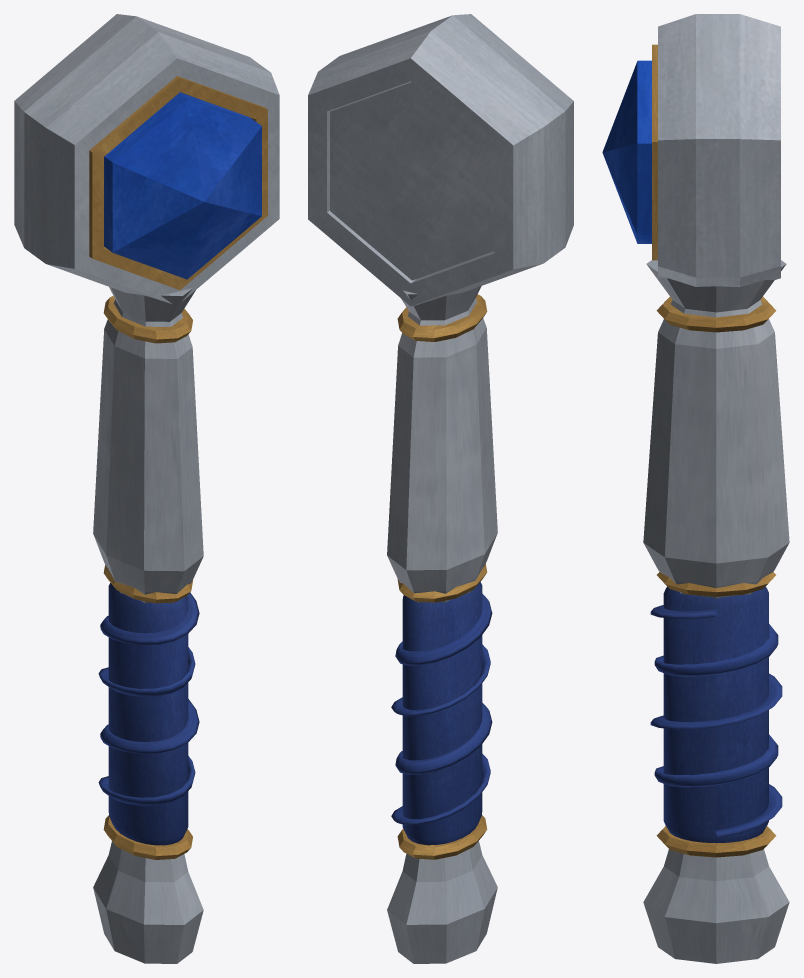
File: silver_rod.obj
3 views of the same model, side by side, from view 1: azimuth 30°, elevation 25°; view 2: azimuth 150°, elevation 25°; view 3: azimuth 270°, elevation 25° (orthographic).
Parts seen in each view (by area): view 1: A_FlutedFacetedSilverBody.001_silver_rod_silver, D_ClosedHexagonalSilverHead.001_silver_rod_silver, F_ActualSapphireInset.001_silver_rod_sapphire, B_IndigoGrip.001_silver_rod_indigo, E_HexagonalBrassInsetSeat.001_silver_rod_brass, B_IndigoGrip_ActualRaisedWrap.001_silver_rod_indigo, C_BrassJoin_2.001_silver_rod_brass, C_BrassJoin_0.001_silver_rod_brass, C_BrassJoin_1.001_silver_rod_brass; view 2: A_FlutedFacetedSilverBody.001_silver_rod_silver, D_ClosedHexagonalSilverHead.001_silver_rod_silver, G_ClosedRearHeadPlate.001_silver_rod_silver, B_IndigoGrip.001_silver_rod_indigo, B_IndigoGrip_ActualRaisedWrap.001_silver_rod_indigo, C_BrassJoin_2.001_silver_rod_brass, C_BrassJoin_0.001_silver_rod_brass, C_BrassJoin_1.001_silver_rod_brass; view 3: A_FlutedFacetedSilverBody.001_silver_rod_silver, D_ClosedHexagonalSilverHead.001_silver_rod_silver, B_IndigoGrip.001_silver_rod_indigo, B_IndigoGrip_ActualRaisedWrap.001_silver_rod_indigo, F_ActualSapphireInset.001_silver_rod_sapphire, C_BrassJoin_2.001_silver_rod_brass, C_BrassJoin_0.001_silver_rod_brass, E_HexagonalBrassInsetSeat.001_silver_rod_brass, C_BrassJoin_1.001_silver_rod_brass.
Part boxes in pixels (bbox=[...]): A_FlutedFacetedSilverBody.001_silver_rod_silver: bbox=[93, 287, 203, 963]; D_ClosedHexagonalSilverHead.001_silver_rod_silver: bbox=[14, 14, 279, 303]; F_ActualSapphireInset.001_silver_rod_sapphire: bbox=[104, 92, 261, 279]; B_IndigoGrip.001_silver_rod_indigo: bbox=[108, 583, 188, 845]; E_HexagonalBrassInsetSeat.001_silver_rod_brass: bbox=[89, 76, 267, 289]; B_IndigoGrip_ActualRaisedWrap.001_silver_rod_indigo: bbox=[98, 592, 199, 805]; C_BrassJoin_2.001_silver_rod_brass: bbox=[103, 295, 192, 343]; C_BrassJoin_0.001_silver_rod_brass: bbox=[103, 815, 192, 859]; C_BrassJoin_1.001_silver_rod_brass: bbox=[103, 565, 192, 603]; A_FlutedFacetedSilverBody.001_silver_rod_silver: bbox=[387, 286, 497, 963]; D_ClosedHexagonalSilverHead.001_silver_rod_silver: bbox=[308, 14, 573, 306]; G_ClosedRearHeadPlate.001_silver_rod_silver: bbox=[330, 81, 494, 280]; B_IndigoGrip.001_silver_rod_indigo: bbox=[402, 582, 482, 845]; B_IndigoGrip_ActualRaisedWrap.001_silver_rod_indigo: bbox=[391, 593, 492, 825]; C_BrassJoin_2.001_silver_rod_brass: bbox=[397, 294, 487, 341]; C_BrassJoin_0.001_silver_rod_brass: bbox=[397, 815, 487, 859]; C_BrassJoin_1.001_silver_rod_brass: bbox=[397, 564, 487, 602]; A_FlutedFacetedSilverBody.001_silver_rod_silver: bbox=[643, 260, 789, 963]; D_ClosedHexagonalSilverHead.001_silver_rod_silver: bbox=[658, 14, 780, 286]; B_IndigoGrip.001_silver_rod_indigo: bbox=[663, 586, 768, 843]; B_IndigoGrip_ActualRaisedWrap.001_silver_rod_indigo: bbox=[650, 605, 782, 837]; F_ActualSapphireInset.001_silver_rod_sapphire: bbox=[602, 60, 651, 243]; C_BrassJoin_2.001_silver_rod_brass: bbox=[656, 297, 776, 332]; C_BrassJoin_0.001_silver_rod_brass: bbox=[656, 826, 776, 857]; E_HexagonalBrassInsetSeat.001_silver_rod_brass: bbox=[652, 44, 657, 260]; C_BrassJoin_1.001_silver_rod_brass: bbox=[657, 572, 775, 596].
Size of the model in its own units: 1.33 by 5.19 by 0.9436.
